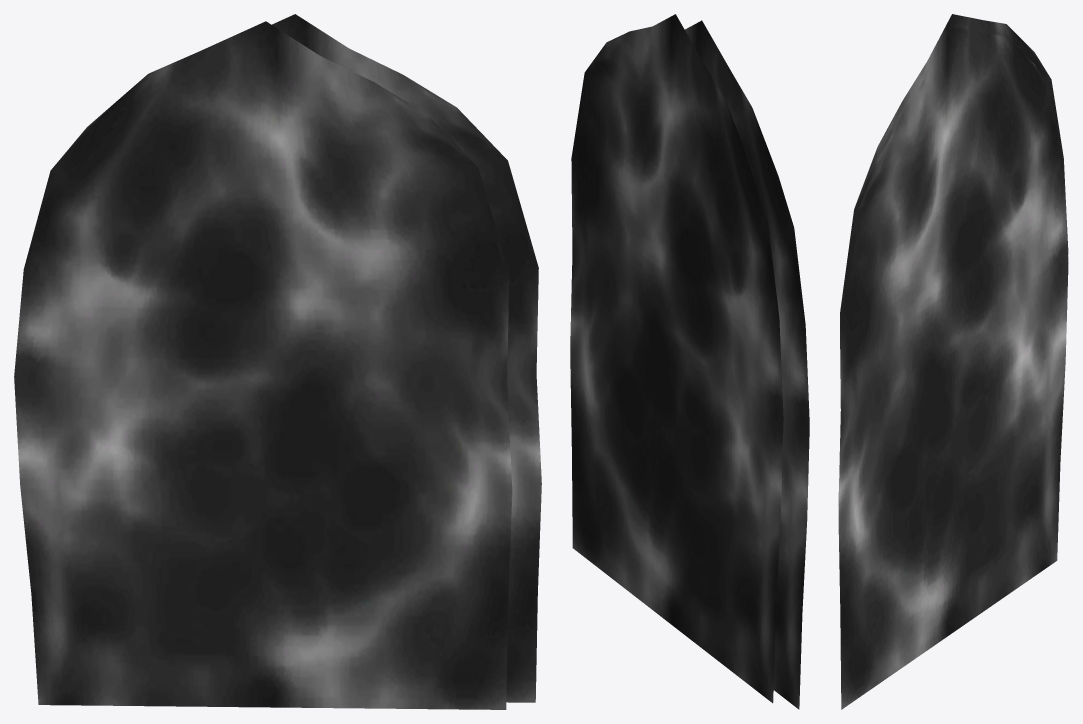
File: csm.fbx
3 views of the same model, side by side, from view 1: azimuth 30°, elevation 25°; view 2: azimuth 150°, elevation 25°; view 3: azimuth 270°, elevation 25° (orthographic). The views are drawn at different scales.
Visible parts, largest first — view 1: dise_liang_1, dise_liang; view 2: dise_liang, dise_liang_1; view 3: dise_liang, dise_liang_1.
Part boxes in pixels (x1,y1,x2,y2): dise_liang_1: [14, 21, 512, 709]; dise_liang: [272, 14, 541, 702]; dise_liang: [570, 14, 783, 703]; dise_liang_1: [685, 20, 809, 709]; dise_liang: [838, 26, 1068, 709]; dise_liang_1: [838, 14, 1068, 505].
Size of the model in its own units: 2.52 by 4.16 by 1.43.
